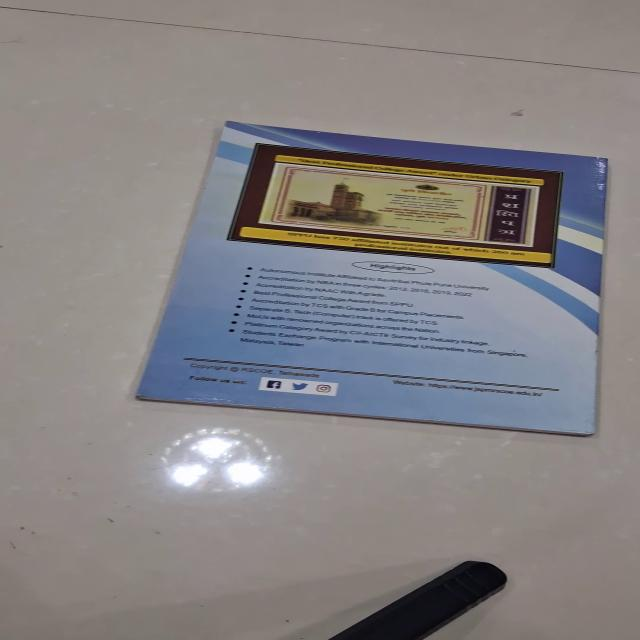paper: (133, 120, 610, 436)
